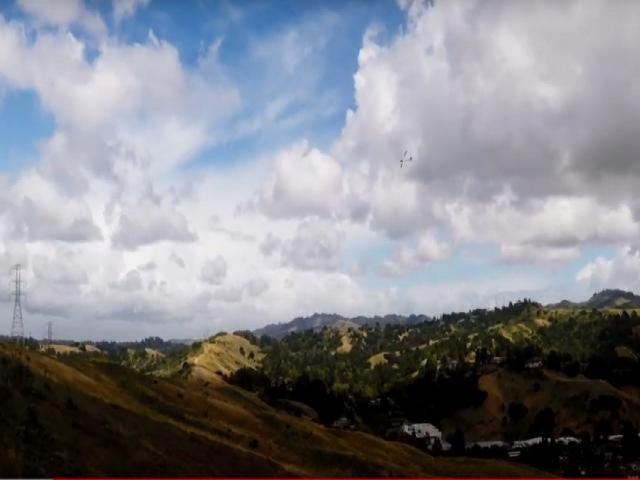iha: (392, 149, 415, 175)
